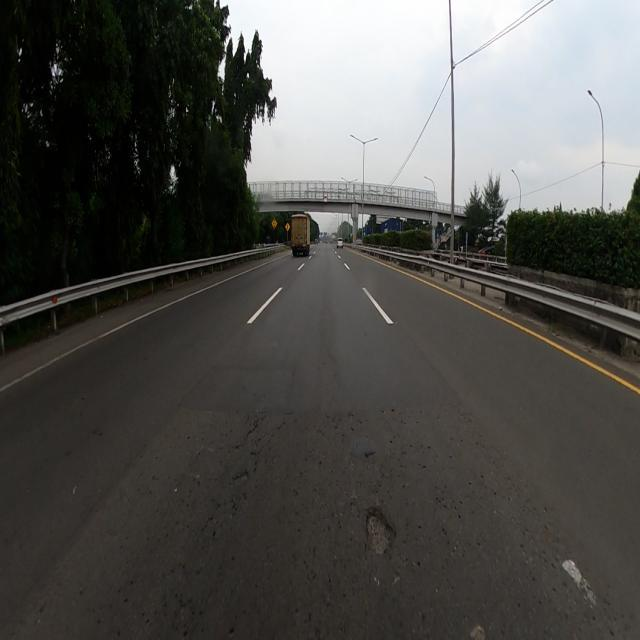Buraco: (358, 504, 399, 559)
